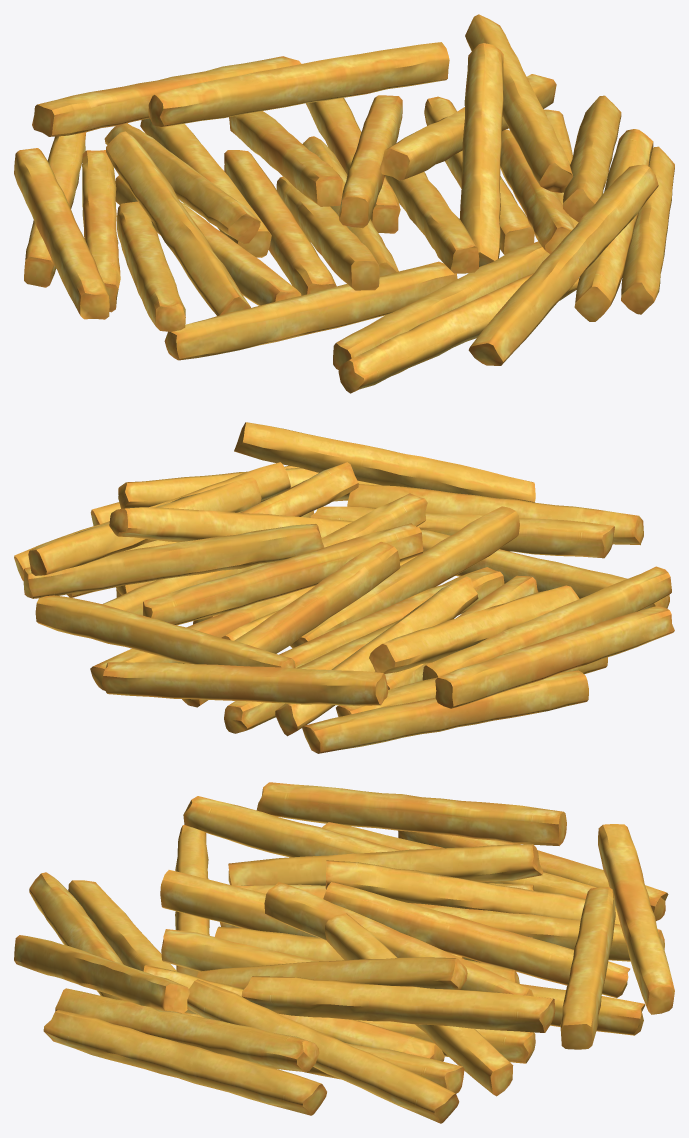
File: potato.glb
3 views of the same model, one above another, from view 1: azimuth 30°, elevation 25°; view 2: azimuth 150°, elevation 25°; view 3: azimuth 270°, elevation 25° (orthographic). The views are drawn at different scales.
Parts seen in each view (by area): view 1: Object_2; view 2: Object_2; view 3: Object_2.
Part boxes in pixels (x1=…): Object_2: x1=14, y1=14, x2=674, y2=393; Object_2: x1=14, y1=422, x2=674, y2=753; Object_2: x1=14, y1=782, x2=674, y2=1123.
Bounding box in the file's own units: 20.41 × 3.52 × 19.16.
Materials: 1 (1 with a texture image).
